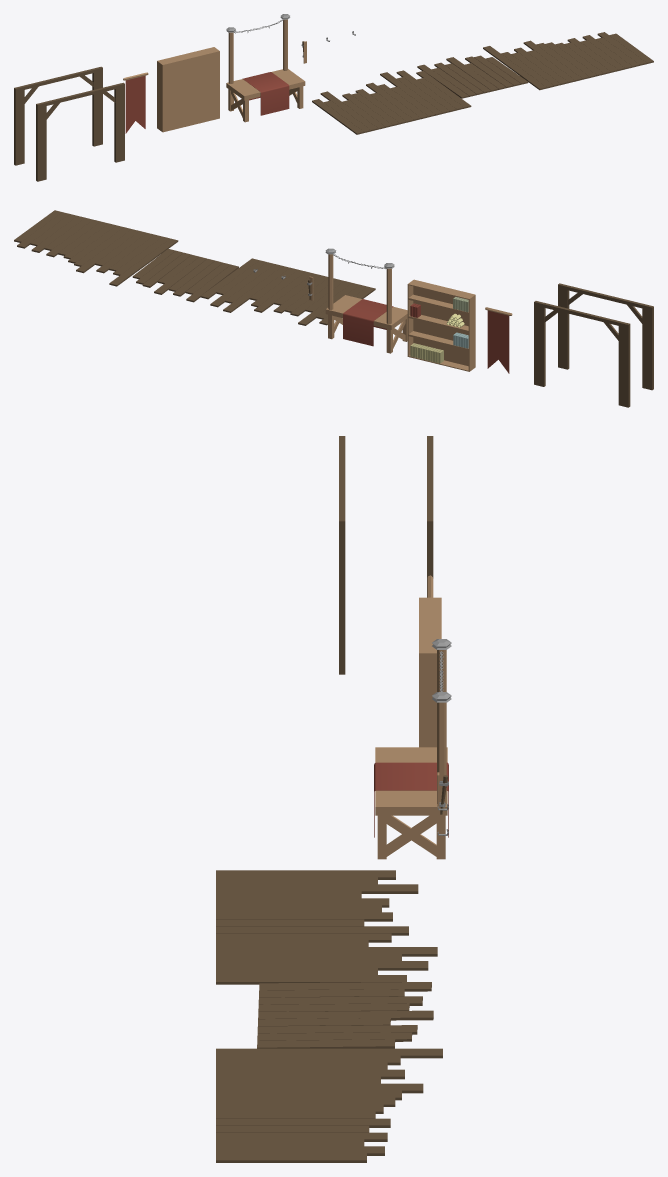
Rendered from Asset interno.fbx.
3 renders of one model, top to bottom at view 1: azimuth 30°, elevation 25°; view 2: azimuth 150°, elevation 25°; view 3: azimuth 270°, elevation 25°, orthographic. The views are drawn at different scales.
Parts seen in each view (by area): view 1: Asse terreno destra, Asse terreno sinistra, Scaffale, Travi porta, Negozio, Assi centrali, Stendardo; view 2: Asse terreno sinistra, Asse terreno destra, Scaffale, Travi porta, Negozio, Assi centrali, Stendardo; view 3: Asse terreno destra, Asse terreno sinistra, Assi centrali, Negozio, Scaffale, Travi porta.
Part boxes in pixels (x1,y1,x2,y2): Asse terreno destra: (312, 70, 471, 134); Asse terreno sinistra: (483, 32, 653, 90); Scaffale: (157, 47, 219, 132); Travi porta: (14, 66, 124, 181); Negozio: (226, 14, 305, 122); Assi centrali: (417, 55, 528, 98); Stendardo: (123, 72, 148, 133); Asse terreno sinistra: (14, 210, 178, 286); Asse terreno destra: (200, 258, 375, 325); Scaffale: (407, 279, 475, 371); Travi porta: (534, 283, 653, 407); Negozio: (325, 248, 407, 353); Assi centrali: (132, 249, 238, 302); Stendardo: (485, 307, 512, 373); Asse terreno destra: (216, 870, 437, 984); Asse terreno sinistra: (216, 1048, 442, 1162); Assi centrali: (257, 982, 433, 1048); Negozio: (374, 639, 451, 859); Scaffale: (419, 597, 441, 747); Travi porta: (339, 436, 433, 674).
Size of the model in its own units: 29.21 by 5.09 by 3.92.
